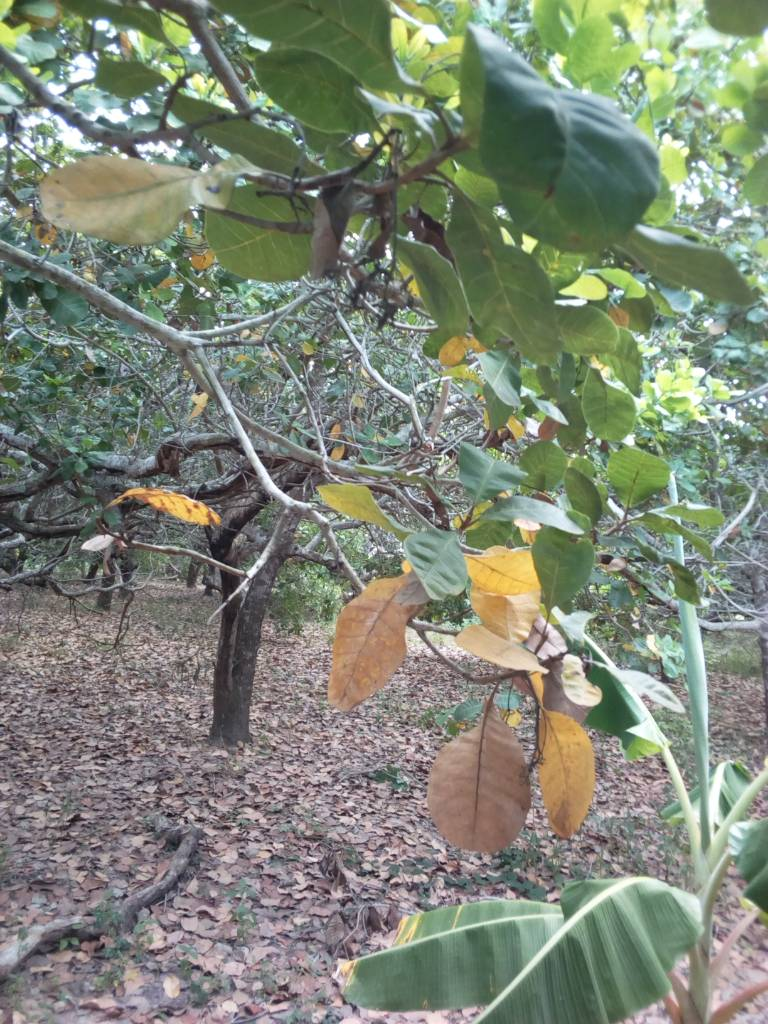alternariose: (27, 133, 237, 260), (410, 702, 543, 866), (318, 560, 429, 717), (527, 702, 616, 857), (104, 477, 227, 546), (460, 542, 551, 607), (432, 330, 491, 372)
